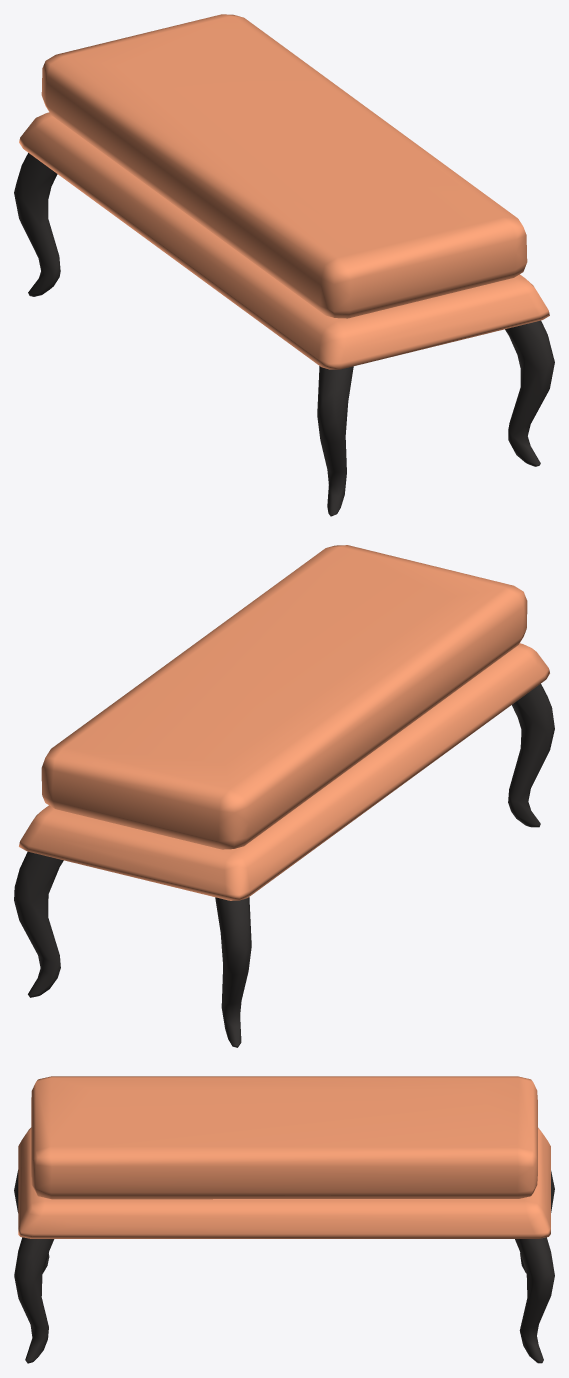
File: footstool_01_salmon.fbx
3 renders of one model, top to bottom at view 1: azimuth 30°, elevation 25°; view 2: azimuth 150°, elevation 25°; view 3: azimuth 270°, elevation 25°, orthographic. The views are drawn at different scales.
Parts seen in each view (by area): view 1: footstool_01_salmon; view 2: footstool_01_salmon; view 3: footstool_01_salmon.
Part boxes in pixels (left/top/right/bottom): footstool_01_salmon: left=14, top=14, right=554, bottom=516; footstool_01_salmon: left=14, top=545, right=554, bottom=1047; footstool_01_salmon: left=14, top=1076, right=554, bottom=1363.
Size of the model in its own units: 46.53 by 46.52 by 109.
2 materials, 2 textured.
